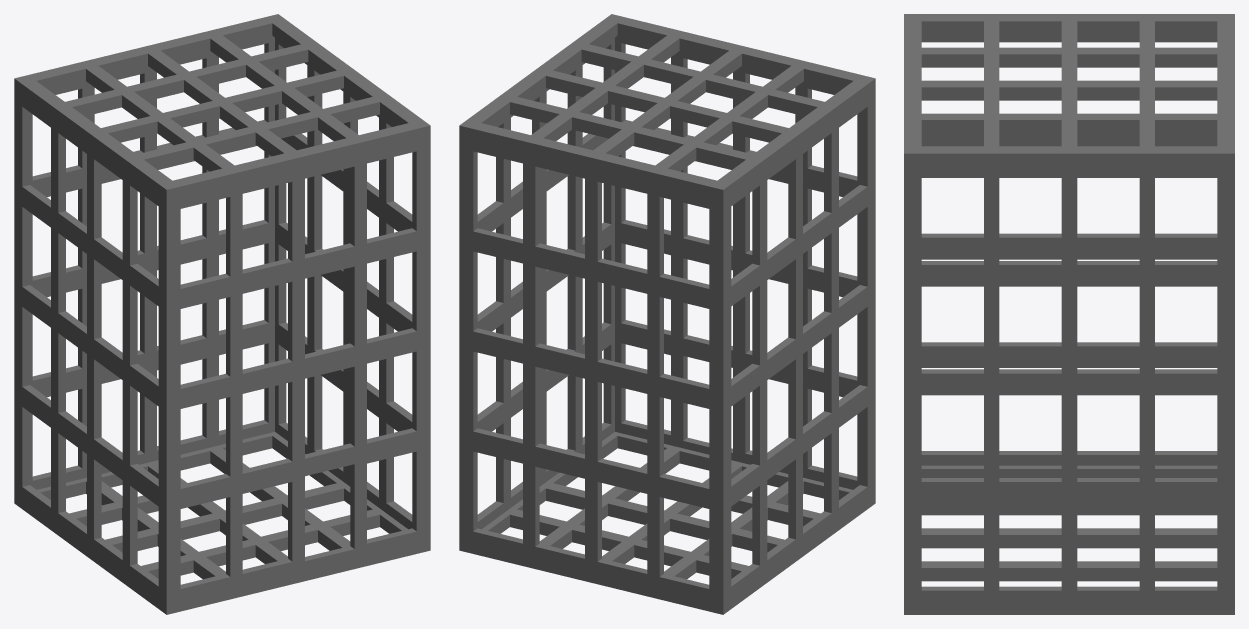
The model's file is LPCP_Cage09.fbx.
3 views of the same model, side by side, from view 1: azimuth 30°, elevation 25°; view 2: azimuth 150°, elevation 25°; view 3: azimuth 270°, elevation 25° (orthographic). The views are drawn at different scales.
Visible parts, largest first — view 1: LPCP_Cage09; view 2: LPCP_Cage09; view 3: LPCP_Cage09.
Boxes of the visible parts, x1,y1,x2,y2 form: LPCP_Cage09: (14, 14, 430, 614); LPCP_Cage09: (459, 14, 875, 614); LPCP_Cage09: (904, 14, 1234, 614).
Size of the model in its own units: 4.76 by 7.32 by 4.76.
